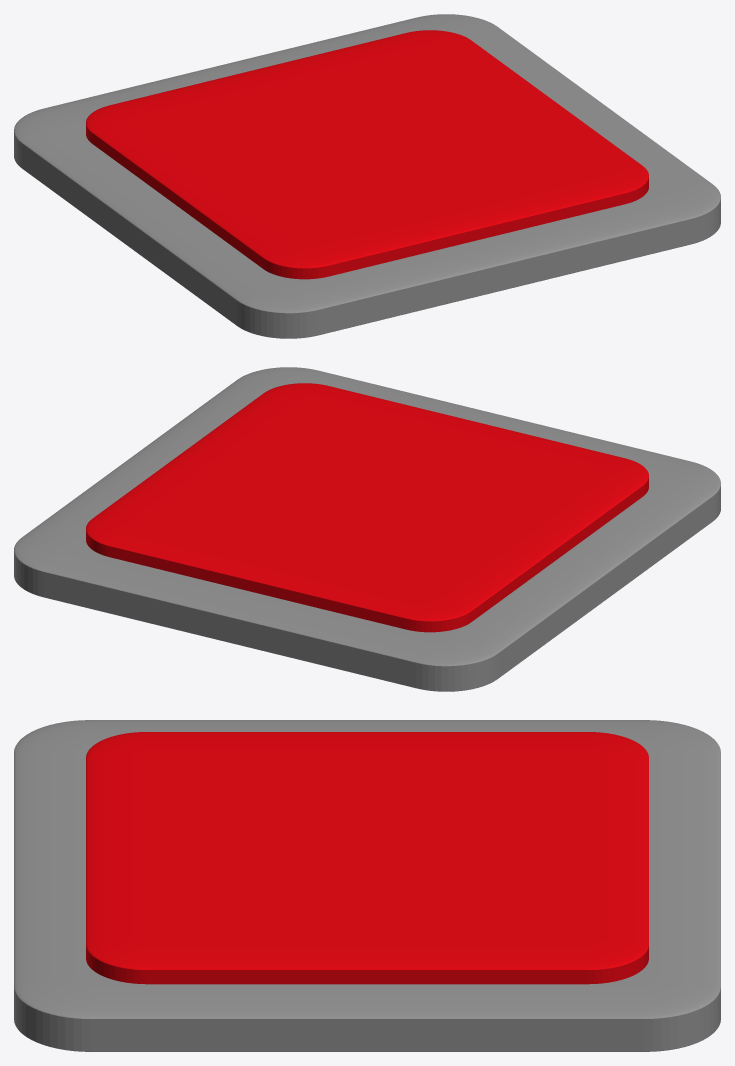
File: simple_button.glb
The picture shows the model from 3 angles, top to bottom: view 1: azimuth 30°, elevation 25°; view 2: azimuth 150°, elevation 25°; view 3: azimuth 270°, elevation 25°; orthographic projection. The views are drawn at different scales.
Parts seen in each view (by area): view 1: Cube.001, Cube; view 2: Cube.001, Cube; view 3: Cube.001, Cube.
Boxes of the visible parts, x1,y1,x2,y2 form: Cube.001: (86, 30, 648, 279); Cube: (14, 14, 720, 338); Cube.001: (86, 383, 648, 632); Cube: (14, 367, 720, 691); Cube.001: (86, 732, 648, 984); Cube: (14, 720, 720, 1051).
Bounding box in the file's own units: 0.5412 × 0.05 × 0.5412.
